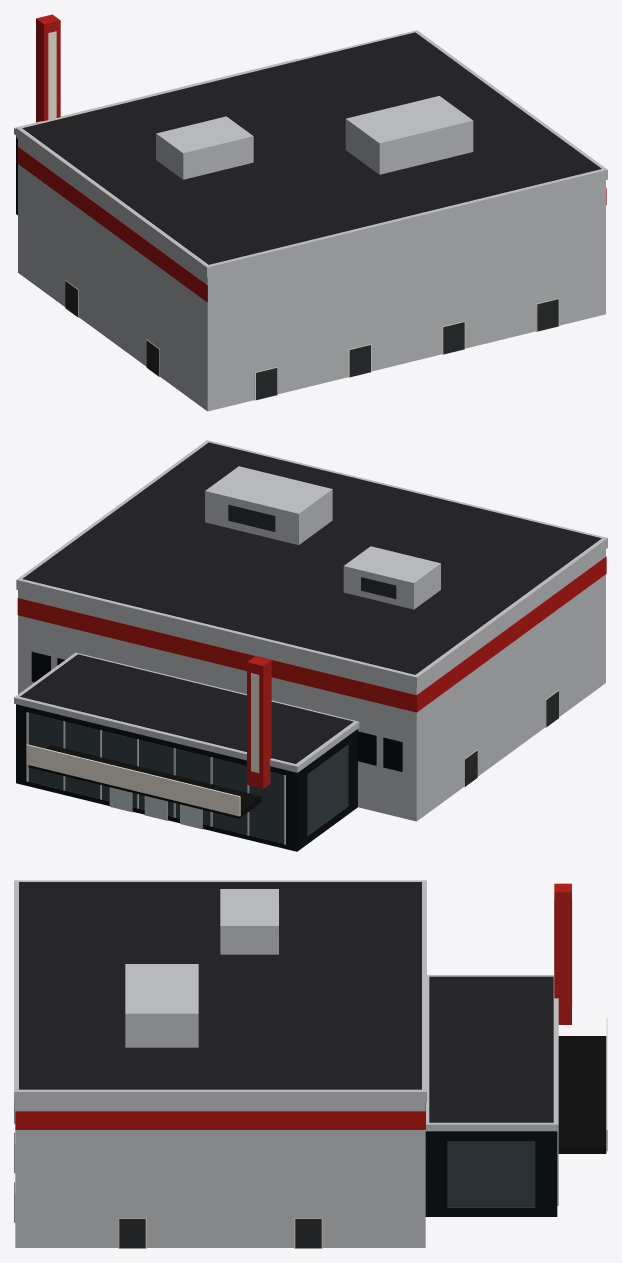
Rendered from context.type.cinema.glb.
3 renders of one model, top to bottom at view 1: azimuth 30°, elevation 25°; view 2: azimuth 150°, elevation 25°; view 3: azimuth 270°, elevation 25°, orthographic. The views are drawn at different scales.
Visible parts, largest first — view 1: walls__aluminium, roof__roof_felt, roof__aluminium, openings__plastic_red, openings__steel_dark, roof__hazard_red, roof__light_emitter, openings__paint_white; view 2: roof__roof_felt, walls__aluminium, roof__aluminium, walls__glass_dark, openings__glass, openings__plastic_red, roof__light_emitter, roof__hazard_red, openings__aluminium, roof__plastic_black, openings__screen, roof__steel_dark (+1 smaller); view 3: roof__roof_felt, walls__aluminium, roof__aluminium, walls__glass_dark, openings__plastic_red, openings__glass, roof__plastic_black, roof__hazard_red, openings__steel_dark.
Boxes of the visible parts, x1,y1,x2,y2 form: walls__aluminium: (18,139,605,411); roof__roof_felt: (22,32,601,264); roof__aluminium: (14,30,607,277); openings__plastic_red: (17,146,606,302); openings__steel_dark: (65,281,558,399); roof__hazard_red: (36,14,60,122); roof__light_emitter: (27,31,236,124); openings__paint_white: (65,280,559,400); roof__roof_felt: (20,442,601,763); walls__aluminium: (18,549,605,821); roof__aluminium: (14,440,607,772); walls__glass_dark: (16,704,357,851); openings__glass: (28,713,347,843); openings__plastic_red: (17,556,606,712); roof__light_emitter: (26,673,259,816); roof__hazard_red: (247,656,271,788); openings__aluminium: (26,712,285,844); roof__plastic_black: (28,744,261,818); openings__screen: (31,651,402,771); roof__steel_dark: (228,504,396,598); roof__roof_felt: (19,882,553,1122); walls__aluminium: (15,1102,425,1247); roof__aluminium: (14,880,558,1131); walls__glass_dark: (425,1131,557,1216); openings__plastic_red: (15,1103,425,1129); openings__glass: (447,1141,534,1207); roof__plastic_black: (558,1036,606,1153); roof__hazard_red: (554,883,571,1024); openings__steel_dark: (14,1102,321,1248).
Bounding box in the file's own units: 34.2 × 15.04 × 40.56.
